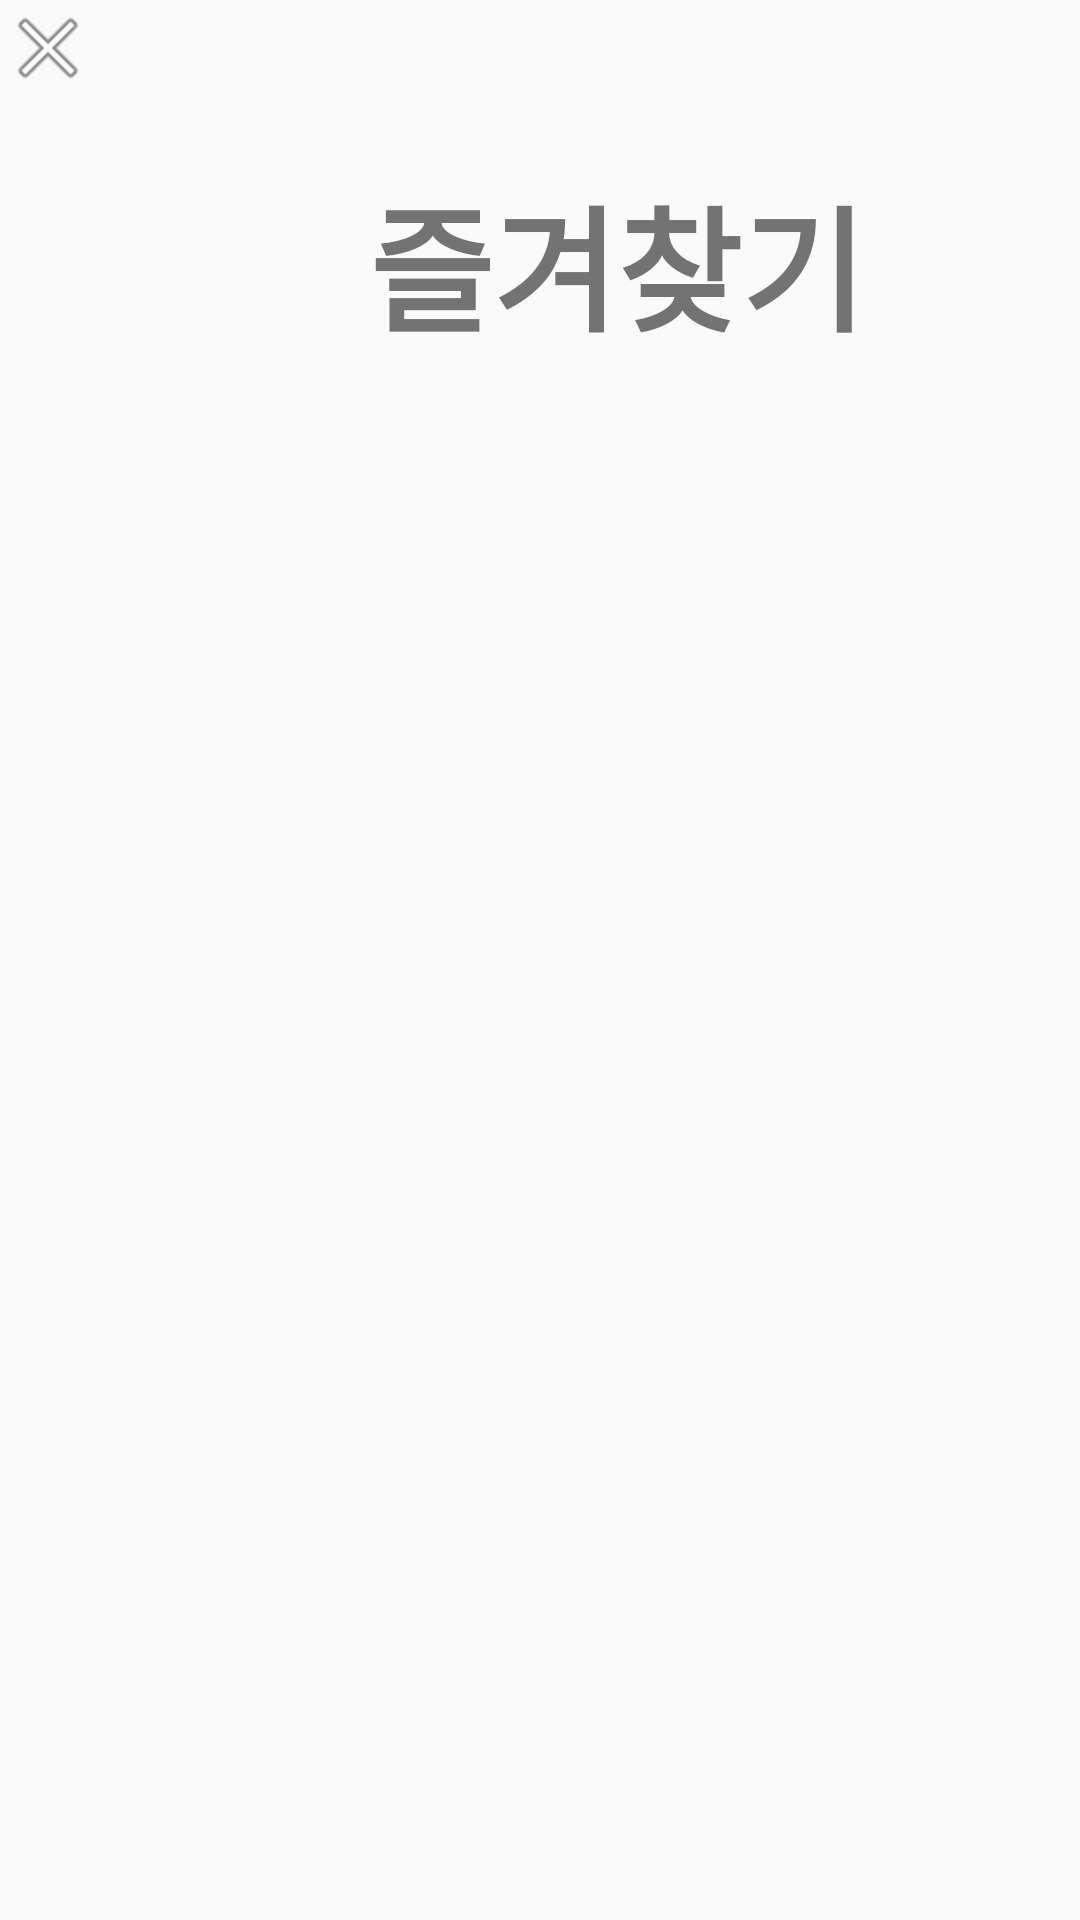

Where to tap for icons on this 1080*1920 app screen, as (x,y):
close clear cancel: (48,48)
